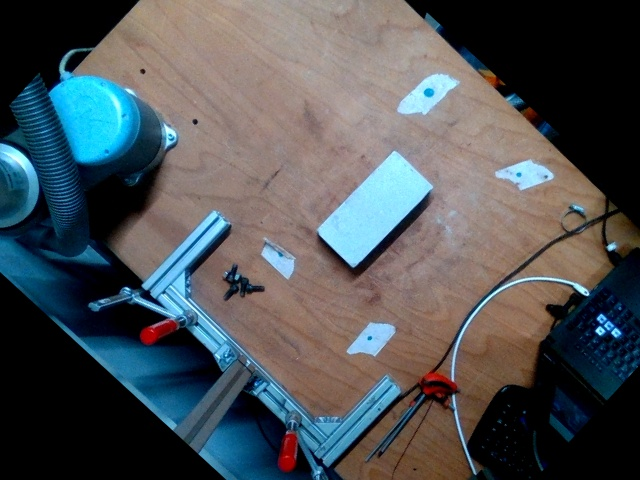brick: (317, 150, 433, 268)
